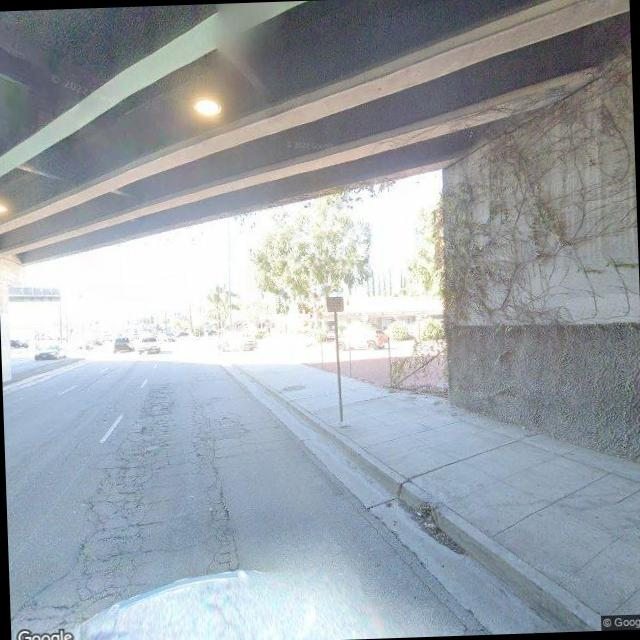crack: (30, 379, 262, 630)
